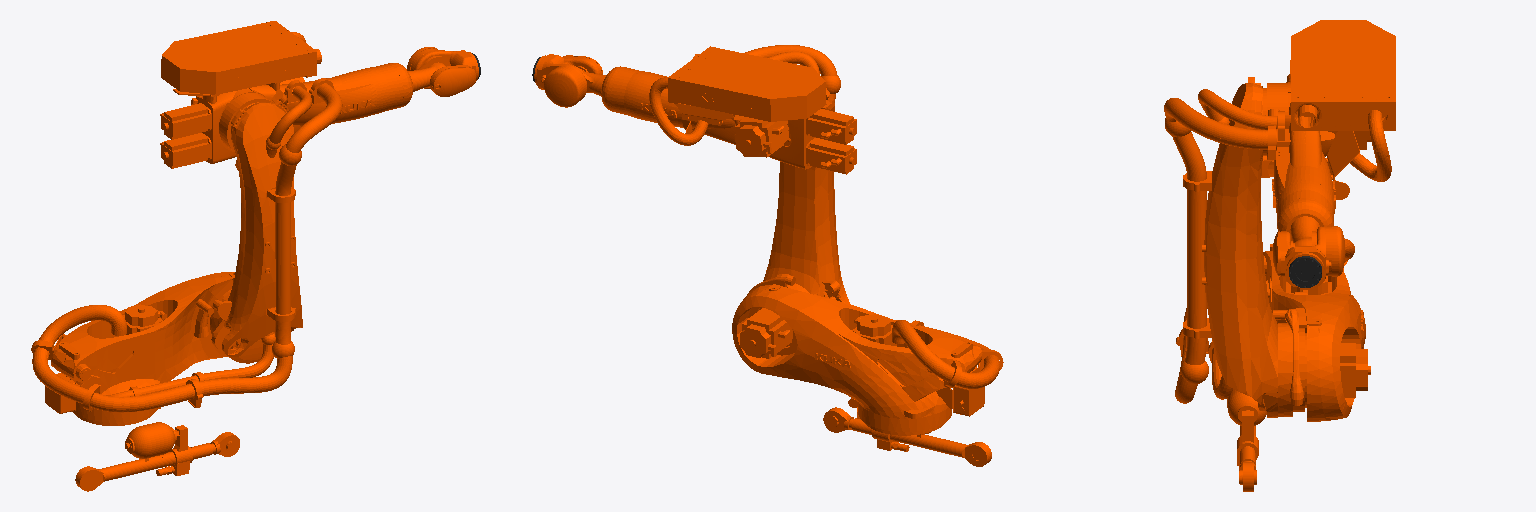
URDF robot description (kuka_kr180_r3100_prime_k):
<?xml version="1.0"?>
<robot name="kuka_kr180_r3100_prime_k">
  <material name="kuka_orange"><color rgba="1.00 0.40 0.00 1.0"/></material>
  <material name="kuka_dark_gray"><color rgba="0.20 0.20 0.20 1.0"/></material>

  <link name="base_link">
    <inertial>
      <origin xyz="-0.188277 0.000153 0.138686" rpy="0 0 0"/>
      <mass value="320.000"/>
      <inertia ixx="10.419110" ixy="0.131941" ixz="2.030515" iyy="16.523133" iyz="-0.046261" izz="22.655234"/>
    </inertial>
    <visual>
      <origin xyz="0 0 0" rpy="0 0 0"/>
      <geometry><mesh filename="meshes/visual/base_link.stl"/></geometry>
      <material name="kuka_dark_gray"/>
    </visual>
    <collision>
      <origin xyz="0 0 0" rpy="0 0 0"/>
      <geometry><mesh filename="meshes/visual/base_link.stl"/></geometry>
    </collision>
  </link>

  <link name="link_1">
    <inertial>
      <origin xyz="0.190417 -0.074173 0.467066" rpy="0 0 0"/>
      <mass value="265.900"/>
      <inertia ixx="13.161221" ixy="-1.812771" ixz="-2.171806" iyy="27.951145" iyz="-2.447350" izz="27.768244"/>
    </inertial>
    <visual>
      <origin xyz="0 0 0" rpy="0 0 0"/>
      <geometry><mesh filename="meshes/visual/link_1.stl"/></geometry>
      <material name="kuka_orange"/>
    </visual>
    <collision>
      <origin xyz="0 0 0" rpy="0 0 0"/>
      <geometry><mesh filename="meshes/visual/link_1.stl"/></geometry>
    </collision>
  </link>

  <link name="link_2">
    <inertial>
      <origin xyz="-0.000645 -0.269578 0.504835" rpy="0 0 0"/>
      <mass value="819.500"/>
      <inertia ixx="103.348195" ixy="-0.171872" ixz="-0.579205" iyy="99.642221" iyz="7.759412" izz="14.905823"/>
    </inertial>
    <visual>
      <origin xyz="0 0 0" rpy="0 0 0"/>
      <geometry><mesh filename="meshes/visual/link_2.stl"/></geometry>
      <material name="kuka_orange"/>
    </visual>
    <collision>
      <origin xyz="0 0 0" rpy="0 0 0"/>
      <geometry><mesh filename="meshes/visual/link_2.stl"/></geometry>
    </collision>
  </link>

  <link name="link_3">
    <inertial>
      <origin xyz="0.191038 0.021705 0.074157" rpy="0 0 0"/>
      <mass value="621.600"/>
      <inertia ixx="21.242993" ixy="0.324763" ixz="2.371011" iyy="49.287457" iyz="-2.072792" izz="55.500695"/>
    </inertial>
    <visual>
      <origin xyz="0 0 0" rpy="0 0 0"/>
      <geometry><mesh filename="meshes/visual/link_3.stl"/></geometry>
      <material name="kuka_orange"/>
    </visual>
    <collision>
      <origin xyz="0 0 0" rpy="0 0 0"/>
      <geometry><mesh filename="meshes/visual/link_3.stl"/></geometry>
    </collision>
  </link>

  <link name="link_4">
    <inertial>
      <origin xyz="-0.112935 0.005035 0.000000" rpy="0 0 0"/>
      <mass value="70.500"/>
      <inertia ixx="0.244458" ixy="-0.028915" ixz="0.000006" iyy="0.677367" iyz="0.000302" izz="0.675506"/>
    </inertial>
    <visual>
      <origin xyz="0 0 0" rpy="0 0 0"/>
      <geometry><mesh filename="meshes/visual/link_4.stl"/></geometry>
      <material name="kuka_orange"/>
    </visual>
    <collision>
      <origin xyz="0 0 0" rpy="0 0 0"/>
      <geometry><mesh filename="meshes/visual/link_4.stl"/></geometry>
    </collision>
  </link>

  <link name="link_5">
    <inertial>
      <origin xyz="0.040980 0.016108 -0.000063" rpy="0 0 0"/>
      <mass value="66.500"/>
      <inertia ixx="0.554826" ixy="0.033380" ixz="0.000202" iyy="0.481327" iyz="0.000393" izz="0.704614"/>
    </inertial>
    <visual>
      <origin xyz="0 0 0" rpy="0 0 0"/>
      <geometry><mesh filename="meshes/visual/link_5.stl"/></geometry>
      <material name="kuka_orange"/>
    </visual>
    <collision>
      <origin xyz="0 0 0" rpy="0 0 0"/>
      <geometry><mesh filename="meshes/visual/link_5.stl"/></geometry>
    </collision>
  </link>

  <link name="link_6">
    <inertial>
      <origin xyz="-0.006209 0.000000 -0.000608" rpy="0 0 0"/>
      <mass value="76.800"/>
      <inertia ixx="0.227156" ixy="0.000000" ixz="-0.000327" iyy="0.153669" iyz="0.000049" izz="0.152996"/>
    </inertial>
    <visual>
      <origin xyz="0 0 0" rpy="0 0 0"/>
      <geometry><mesh filename="meshes/visual/link_6.stl"/></geometry>
      <material name="kuka_dark_gray"/>
    </visual>
    <collision>
      <origin xyz="0 0 0" rpy="0 0 0"/>
      <geometry><mesh filename="meshes/visual/link_6.stl"/></geometry>
    </collision>
  </link>

  <link name="tool0"/>

  <joint name="joint_a1" type="revolute">
    <parent link="base_link"/>
    <child link="link_1"/>
    <origin xyz="0.000000 0.000000 0.000000" rpy="0 0 0"/>
    <axis xyz="0.0 0.0 -1.0"/>
    <limit lower="-3.228859" upper="3.228859" effort="9600.0" velocity="1.834634"/>
    <dynamics damping="5.0" friction="1.0"/>
  </joint>

  <joint name="joint_a2" type="revolute">
    <parent link="link_1"/>
    <child link="link_2"/>
    <origin xyz="0.750000 0.000000 0.590000" rpy="0 0 0"/>
    <axis xyz="0.0 1.0 0.0"/>
    <limit lower="-0.523599" upper="2.792527" effort="9600.0" velocity="1.863274"/>
    <dynamics damping="5.0" friction="1.0"/>
  </joint>

  <joint name="joint_a3" type="revolute">
    <parent link="link_2"/>
    <child link="link_3"/>
    <origin xyz="0.000000 0.000000 1.150000" rpy="0 0 0"/>
    <axis xyz="0.0 1.0 0.0"/>
    <limit lower="-3.665191" upper="1.134464" effort="6952.9" velocity="1.993663"/>
    <dynamics damping="5.0" friction="1.0"/>
  </joint>

  <joint name="joint_a4" type="revolute">
    <parent link="link_3"/>
    <child link="link_4"/>
    <origin xyz="1.200000 0.000000 -0.041000" rpy="0 0 0"/>
    <axis xyz="-1.0 0.0 -0.0"/>
    <limit lower="-6.108652" upper="6.108652" effort="2213.2" velocity="3.116122"/>
    <dynamics damping="5.0" friction="1.0"/>
  </joint>

  <joint name="joint_a5" type="revolute">
    <parent link="link_4"/>
    <child link="link_5"/>
    <origin xyz="0.000000 0.000000 0.000000" rpy="0 0 0"/>
    <axis xyz="0.0 1.0 0.0"/>
    <limit lower="-2.181662" upper="2.181662" effort="1313.2" velocity="3.007767"/>
    <dynamics damping="5.0" friction="1.0"/>
  </joint>

  <joint name="joint_a6" type="revolute">
    <parent link="link_5"/>
    <child link="link_6"/>
    <origin xyz="0.215000 0.000000 0.000000" rpy="0 0 0"/>
    <axis xyz="-1.0 0.0 -0.0"/>
    <limit lower="-6.108652" upper="6.108652" effort="840.6" velocity="3.829921"/>
    <dynamics damping="5.0" friction="1.0"/>
  </joint>

  <joint name="link_6-tool0" type="fixed">
    <parent link="link_6"/>
    <child link="tool0"/>
    <origin xyz="0.000000 0.000000 0.000000" rpy="0 1.57079632679 0"/>
  </joint>
</robot>

--- Render facts (derived) ---
The picture shows the robot from 3 angles, left to right: view 1: azimuth 30°, elevation 25°; view 2: azimuth 150°, elevation 25°; view 3: azimuth 270°, elevation 25°; orthographic projection.
Model kuka_kr180_r3100_prime_k with 8 links and 7 joints (6 revolute, 1 fixed), rooted at base_link, posed every joint at zero.
Visible links, largest first — view 1: link_1, link_3, link_2, link_5, link_4; view 2: link_1, link_3, link_2, link_5; view 3: link_3, link_2, link_1, link_5, link_6, link_4.
Link boxes in pixels (x1,y1,x2,y2): link_1: [31, 272, 292, 491]; link_3: [160, 21, 412, 168]; link_2: [210, 100, 302, 363]; link_5: [407, 47, 478, 96]; link_4: [408, 56, 450, 91]; link_1: [732, 284, 1003, 466]; link_3: [601, 45, 856, 174]; link_2: [747, 88, 849, 303]; link_5: [534, 54, 602, 107]; link_3: [1164, 20, 1395, 231]; link_2: [1172, 77, 1306, 417]; link_1: [1175, 238, 1370, 491]; link_5: [1273, 226, 1345, 288]; link_6: [1289, 256, 1321, 287]; link_4: [1287, 214, 1323, 246].
Size in the robot's own frame: 2.64 by 0.9725 by 2.15 metres.
6 mesh visuals loaded from 7 distinct referenced files (6 binary STL); not drawn: 1 (reference not matched to a file when rendering).
